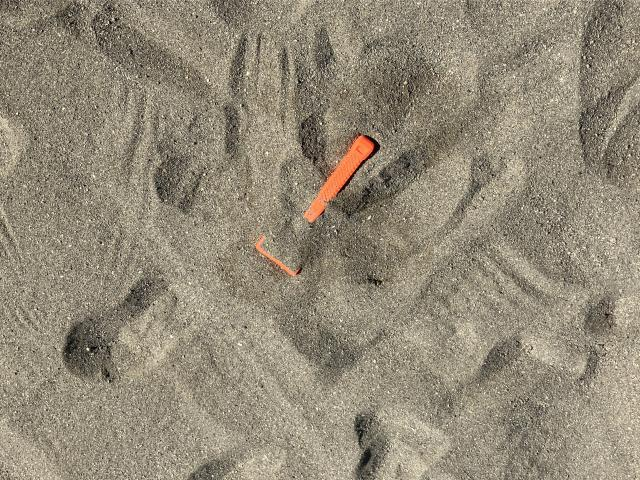hammer: (254, 131, 379, 275)
